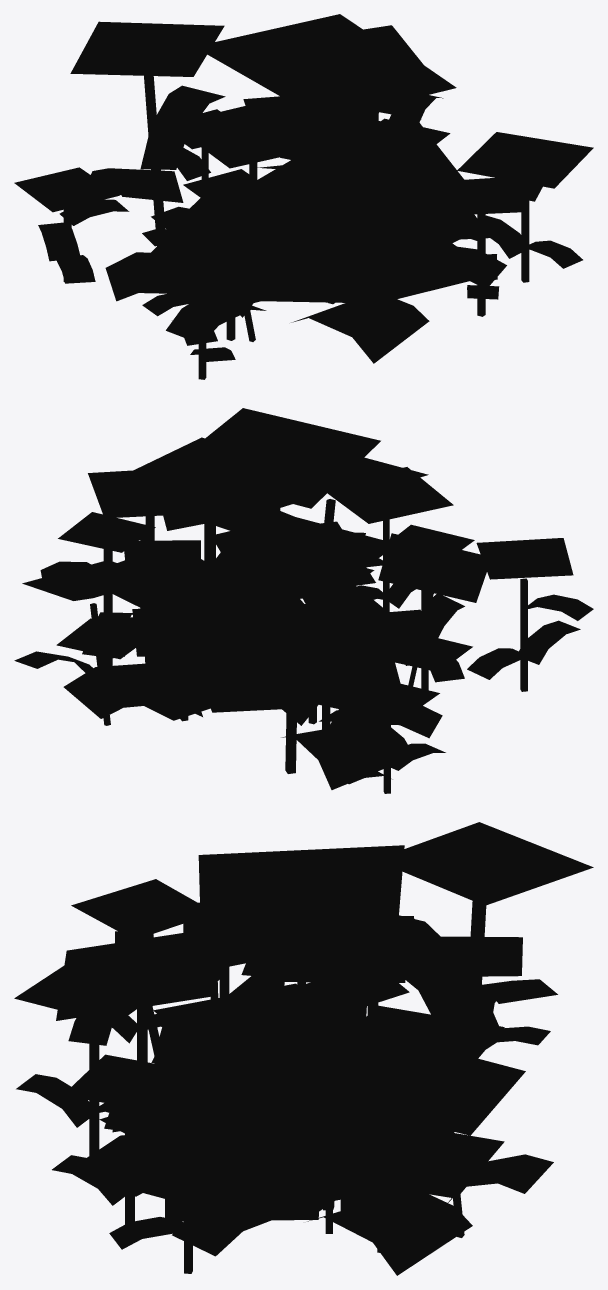
Rendered from FBX_Flowers.fbx.
3 views of the same model, one above another, from view 1: azimuth 30°, elevation 25°; view 2: azimuth 150°, elevation 25°; view 3: azimuth 270°, elevation 25° (orthographic). The views are drawn at different scales.
Parts seen in each view (by area): view 1: MESH_White_Flowers, MESH_Yellow_Flowers, MESH_Pink_Flowers, MESH_Blue_Flowers; view 2: MESH_White_Flowers, MESH_Yellow_Flowers, MESH_Pink_Flowers, MESH_Blue_Flowers; view 3: MESH_White_Flowers, MESH_Yellow_Flowers, MESH_Pink_Flowers, MESH_Blue_Flowers.
Boxes of the visible parts, x1,y1,x2,y2 form: MESH_White_Flowers: (14,66,593,379); MESH_Yellow_Flowers: (70,21,490,341); MESH_Pink_Flowers: (105,198,506,363); MESH_Blue_Flowers: (190,14,424,252); MESH_White_Flowers: (40,467,593,793); MESH_Yellow_Flowers: (14,437,486,773); MESH_Pink_Flowers: (56,600,472,789); MESH_Blue_Flowers: (160,408,380,666); MESH_White_Flowers: (14,879,550,1273); MESH_Yellow_Flowers: (56,822,593,1237); MESH_Pink_Flowers: (87,1060,504,1275); MESH_Blue_Flowers: (198,845,409,1127).
Size of the model in its own units: 119 by 58.41 by 106.
